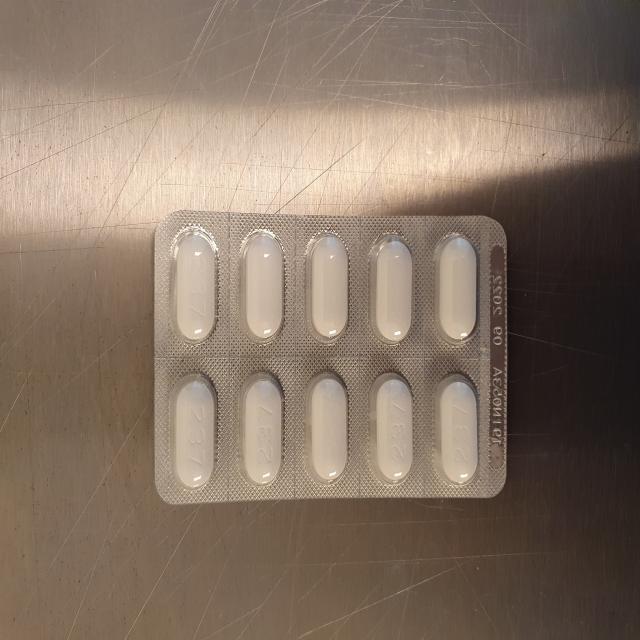Pill: (169, 223, 222, 348), (301, 363, 353, 488), (236, 223, 288, 347), (367, 364, 419, 487), (432, 368, 485, 488), (431, 226, 482, 350), (169, 368, 218, 495), (239, 366, 287, 491), (304, 227, 354, 344), (369, 229, 416, 349)
